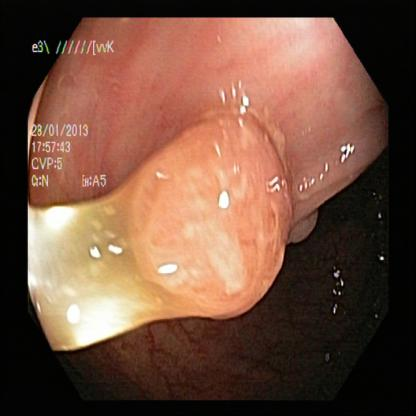Labels: (26, 38, 119, 191)
Polyps: (143, 138, 285, 297)
